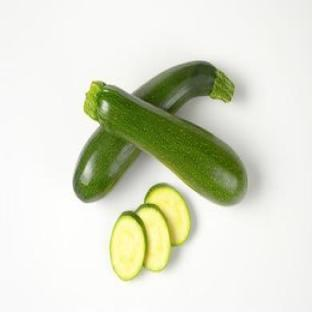Zucchini: (84, 82, 247, 205), (134, 62, 233, 113), (144, 184, 191, 245), (110, 212, 146, 280), (136, 203, 171, 271)
